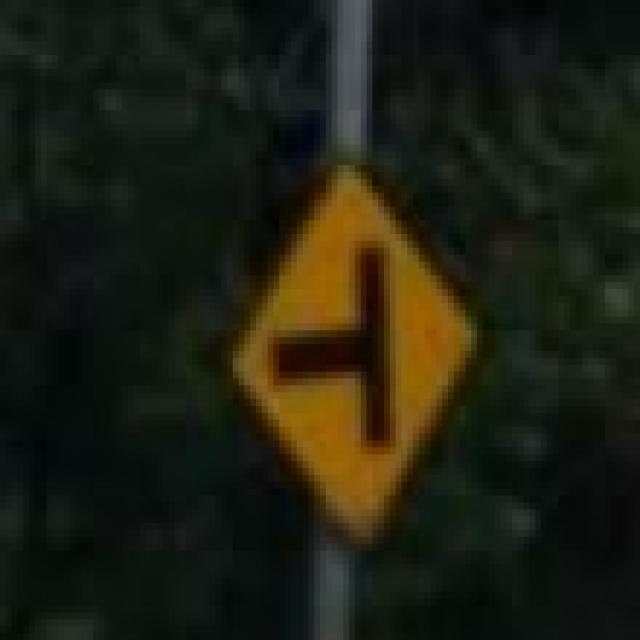traffic sign: (233, 172, 483, 558)
